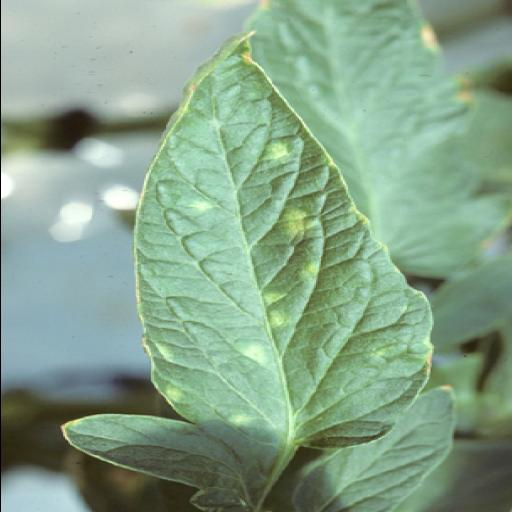Leaf Mold: (57, 28, 431, 512)
